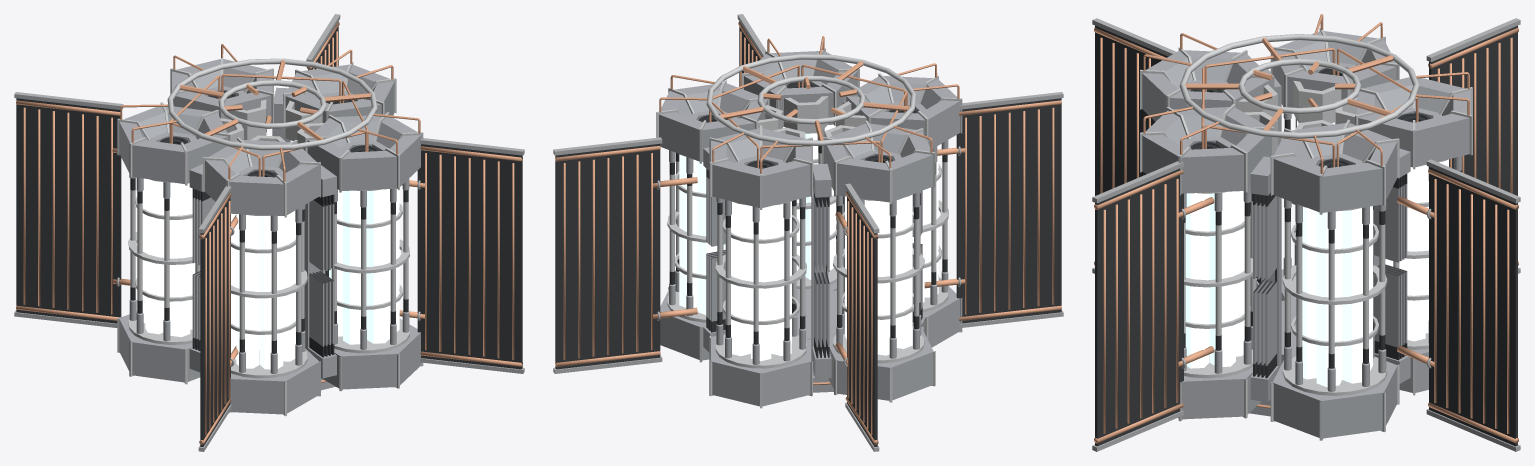
File: antu.glb
3 views of the same model, side by side, from view 1: azimuth 30°, elevation 25°; view 2: azimuth 150°, elevation 25°; view 3: azimuth 270°, elevation 25° (orthographic). The views are drawn at different scales.
Parts seen in each view (by area): view 1: Antu, radiator_panel.003, radiator_panel.001, radiator_panel.002, radiator_rail.002, radiator_rail.006, heat_pipe.020, heat_pipe.024, heat_pipe.026, heat_pipe.028, heat_pipe.045, heat_pipe.051 (+8 smaller); view 2: Antu, radiator_panel, radiator_panel.002, radiator_panel.001, radiator_rail, radiator_rail.004, heat_pipe.002, heat_pipe.008, heat_pipe.010, heat_pipe.015, heat_pipe.035, heat_pipe.039 (+8 smaller); view 3: Antu, radiator_panel, radiator_panel.003, radiator_panel.001, radiator_panel.002, radiator_rail, radiator_rail.002, radiator_rail.006, radiator_rail.004, heat_pipe.001, heat_pipe.003, heat_pipe.005 (+22 smaller).
Part boxes in pixels (x1=…): Antu: x1=117, y1=44, x2=423, y2=416; radiator_panel.003: x1=417, y1=144, x2=522, y2=369; radiator_panel.001: x1=16, y1=98, x2=121, y2=323; radiator_panel.002: x1=200, y1=192, x2=230, y2=446; radiator_rail.002: x1=14, y1=92, x2=123, y2=109; radiator_rail.006: x1=420, y1=138, x2=524, y2=155; heat_pipe.020: x1=67, y1=112, x2=69, y2=309; heat_pipe.024: x1=38, y1=109, x2=40, y2=306; heat_pipe.026: x1=23, y1=107, x2=25, y2=304; heat_pipe.028: x1=228, y1=200, x2=230, y2=398; heat_pipe.045: x1=439, y1=154, x2=441, y2=351; heat_pipe.051: x1=483, y1=159, x2=485, y2=356; Antu: x1=656, y1=36, x2=962, y2=408; radiator_panel: x1=555, y1=143, x2=660, y2=369; radiator_panel.002: x1=956, y1=98, x2=1061, y2=323; radiator_panel.001: x1=847, y1=191, x2=877, y2=446; radiator_rail: x1=553, y1=137, x2=662, y2=155; radiator_rail.004: x1=959, y1=92, x2=1063, y2=109; heat_pipe.002: x1=636, y1=154, x2=638, y2=351; heat_pipe.008: x1=592, y1=159, x2=594, y2=356; heat_pipe.010: x1=578, y1=161, x2=580, y2=358; heat_pipe.015: x1=847, y1=200, x2=849, y2=398; heat_pipe.035: x1=1008, y1=112, x2=1010, y2=309; heat_pipe.039: x1=1037, y1=109, x2=1039, y2=306; Antu: x1=1140, y1=14, x2=1472, y2=440; radiator_panel: x1=1429, y1=167, x2=1517, y2=446; radiator_panel.003: x1=1095, y1=168, x2=1183, y2=446; radiator_panel.001: x1=1429, y1=25, x2=1517, y2=195; radiator_panel.002: x1=1095, y1=25, x2=1168, y2=195; radiator_rail: x1=1426, y1=159, x2=1520, y2=203; radiator_rail.002: x1=1426, y1=18, x2=1520, y2=61; radiator_rail.006: x1=1092, y1=161, x2=1183, y2=203; radiator_rail.004: x1=1092, y1=18, x2=1176, y2=56; heat_pipe.001: x1=1434, y1=178, x2=1436, y2=403; heat_pipe.003: x1=1446, y1=184, x2=1448, y2=408; heat_pipe.005: x1=1458, y1=189, x2=1460, y2=413.
Size of the model in its own units: 6.12 by 4.78 by 6.12.
